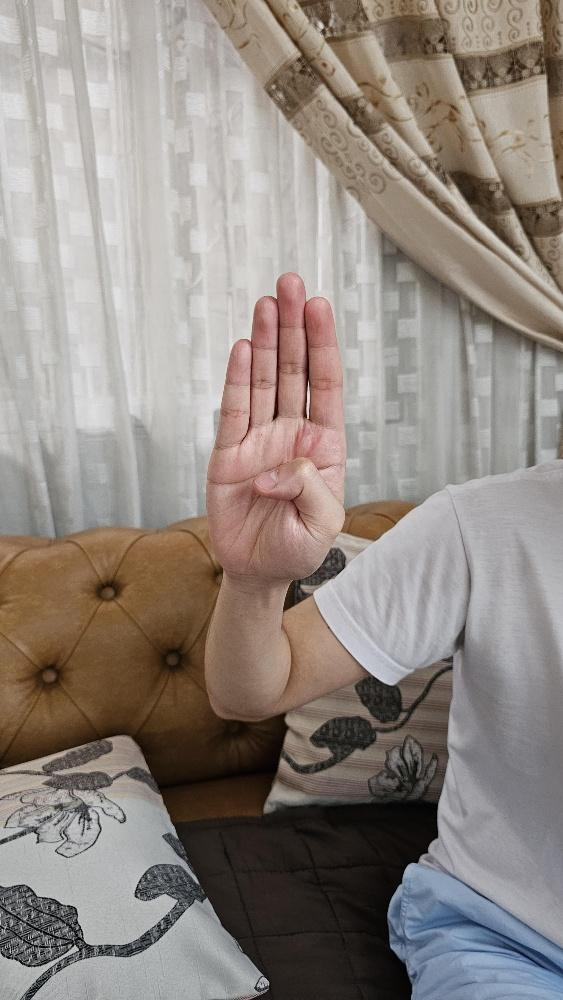b: (203, 268, 348, 583)
